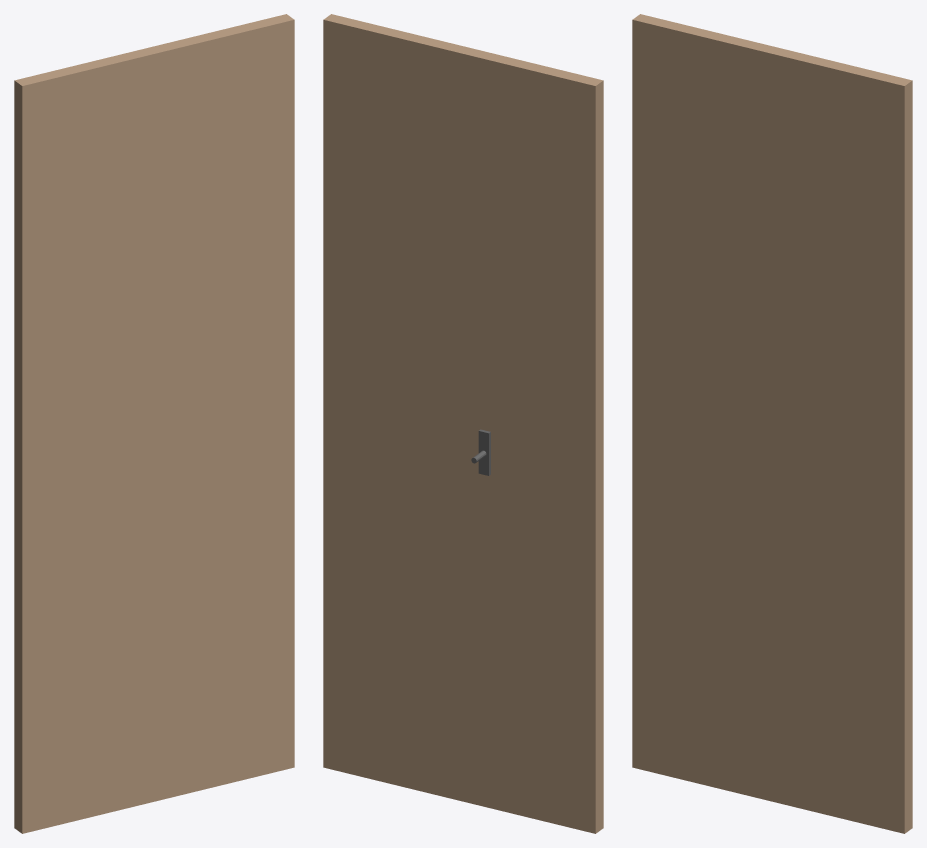
File: flush_door.glb
3 renders of one model, left to right at view 1: azimuth 30°, elevation 25°; view 2: azimuth 150°, elevation 25°; view 3: azimuth 330°, elevation 25°, orthographic.
Parts seen in each view (by area): view 1: DoorPanel; view 2: DoorPanel, Handle; view 3: DoorPanel.
Part boxes in pixels (x1,y1,x2,y2): DoorPanel: [14, 14, 294, 833]; DoorPanel: [323, 14, 603, 833]; Handle: [471, 429, 490, 475]; DoorPanel: [632, 14, 912, 833].
Size of the model in its own units: 0.8 by 2.1 by 0.105.
